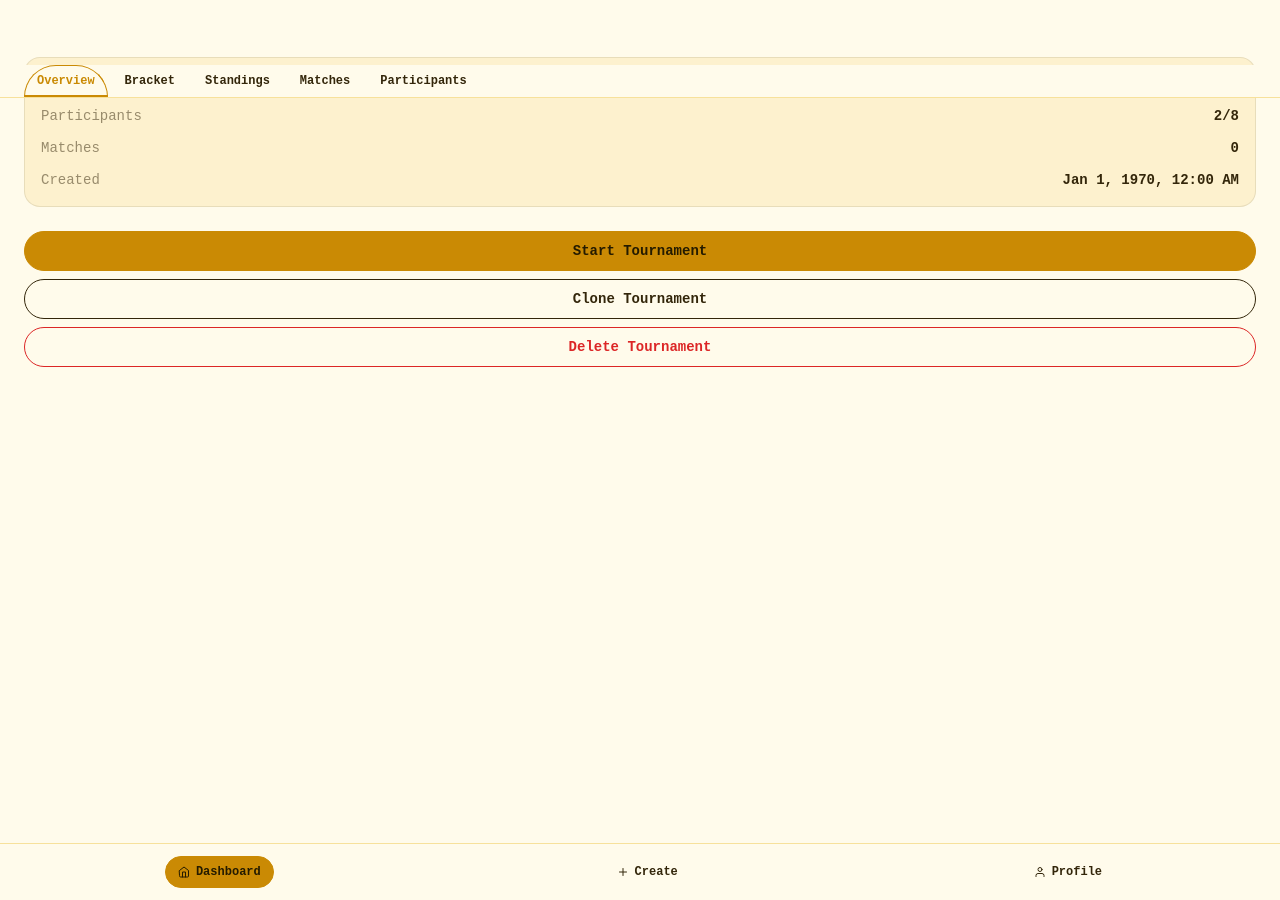
Scenario: TournamentDetailPage › adds, batch adds, and removes participants from the tab
The width and height of the screenshot is (1280, 900).
Later steps or results of the test are not shown.
Click the button "Participants": (424, 81) top-left (367, 65), bottom-right (480, 97)
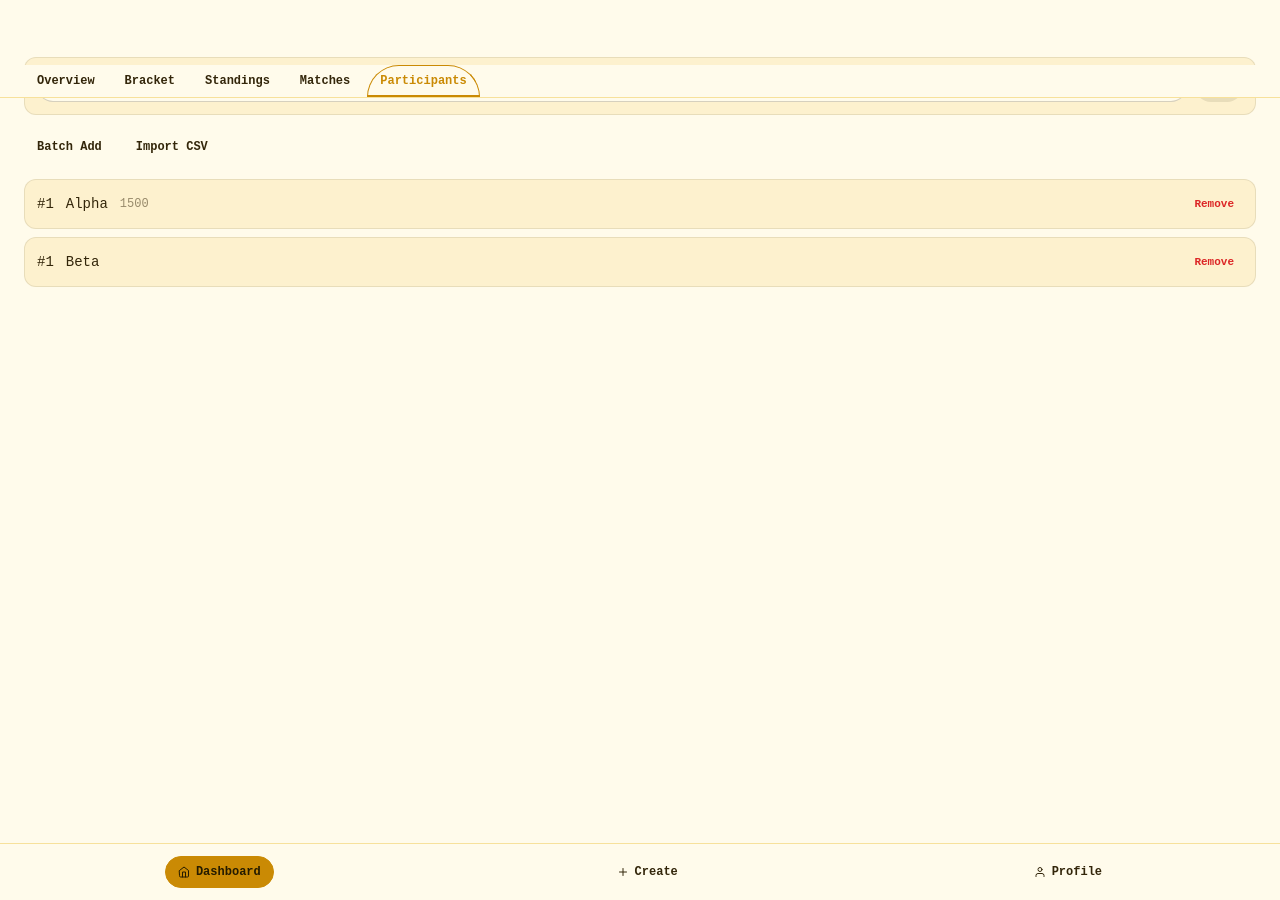
Result: the text "1500" is shown at top-left (120, 196), bottom-right (149, 212)
